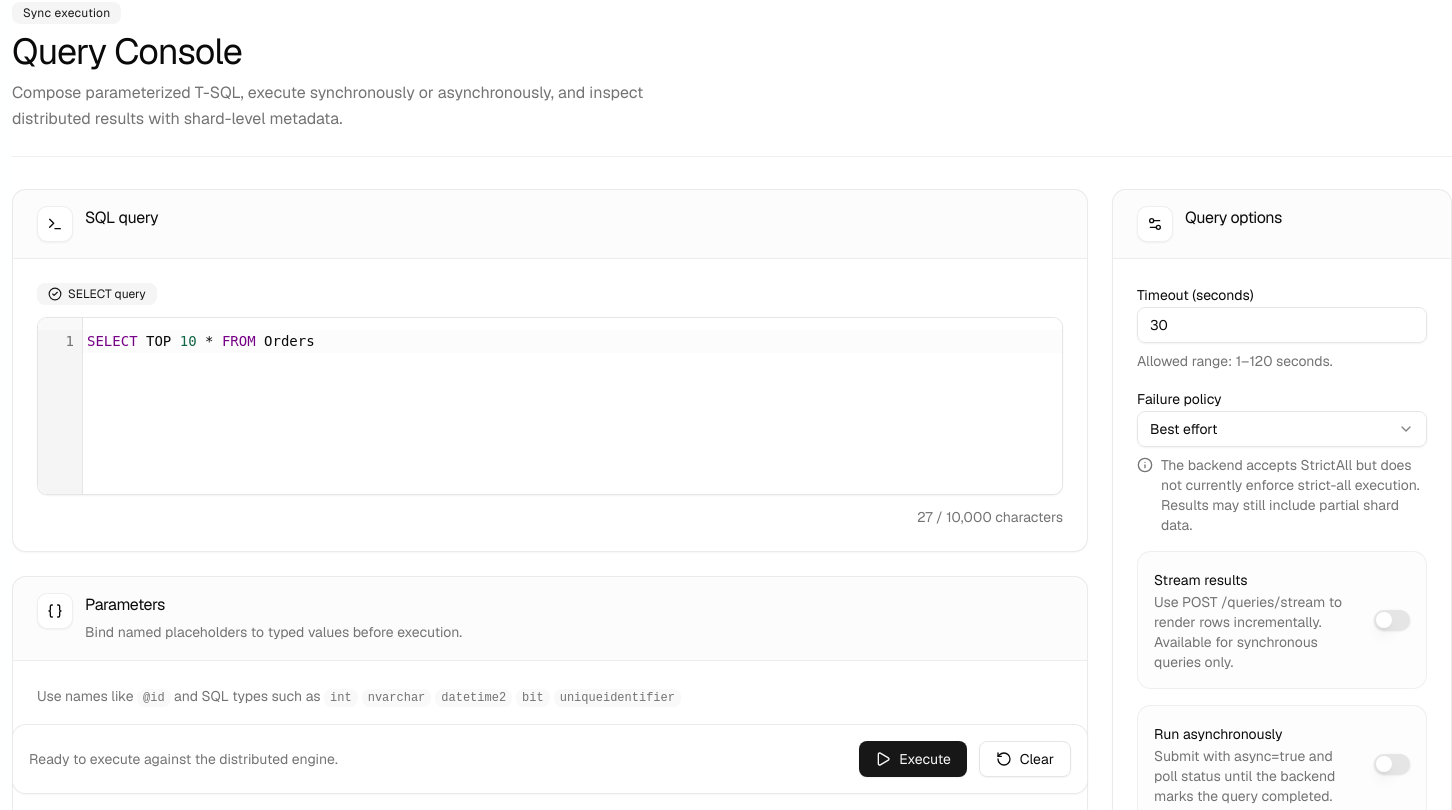
SettingsPage preferences › keeps history metadata-only when save SQL is disabled
Expected: the number field labelled "Timeout (seconds)" holds "30", x1=1137 y1=307 x2=1427 y2=343
Click the button "Execute" at (913, 759), box x1=859 y1=741 x2=967 y2=777
(page scrolled)
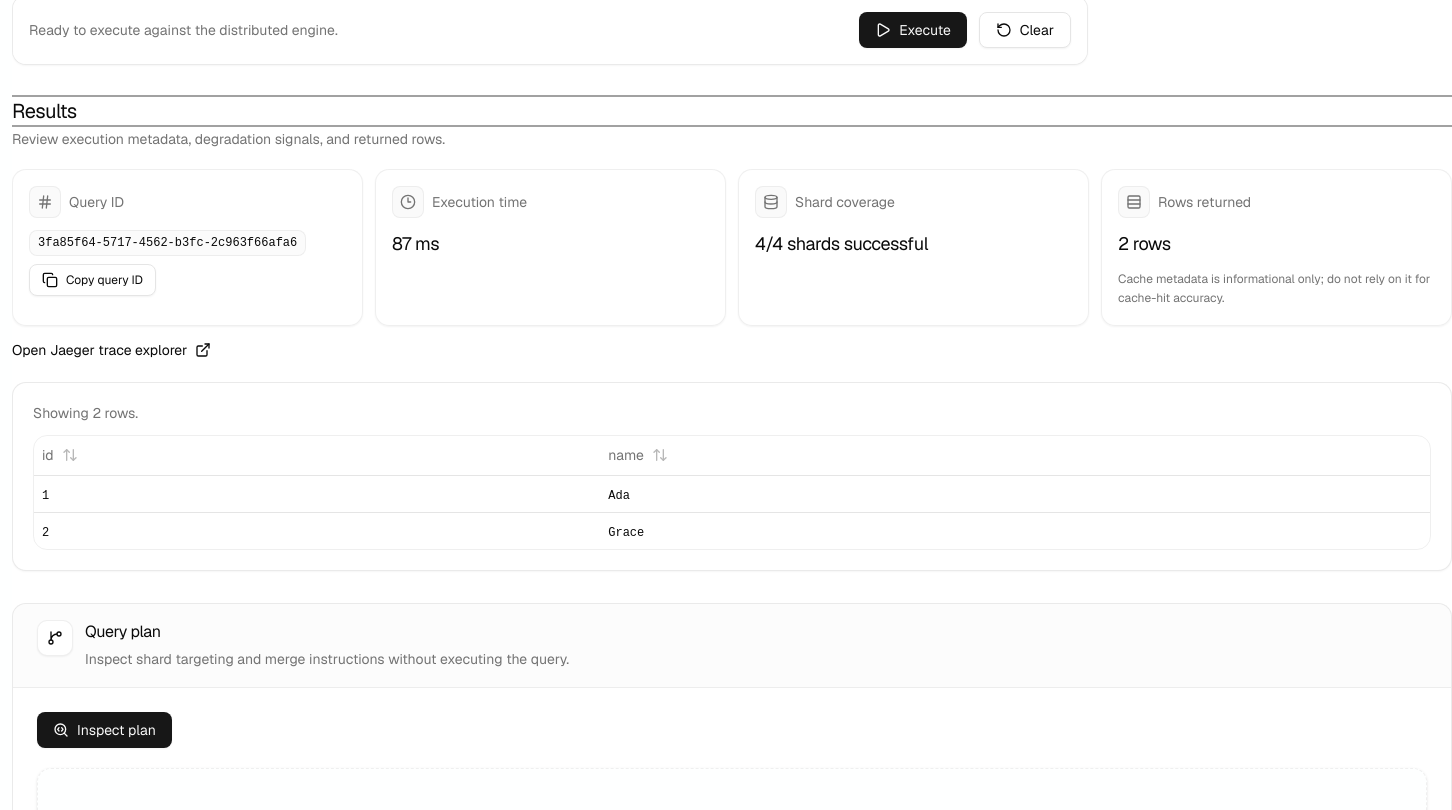
Expected: the column heading "id" is shown, x1=34 y1=436 x2=600 y2=476
